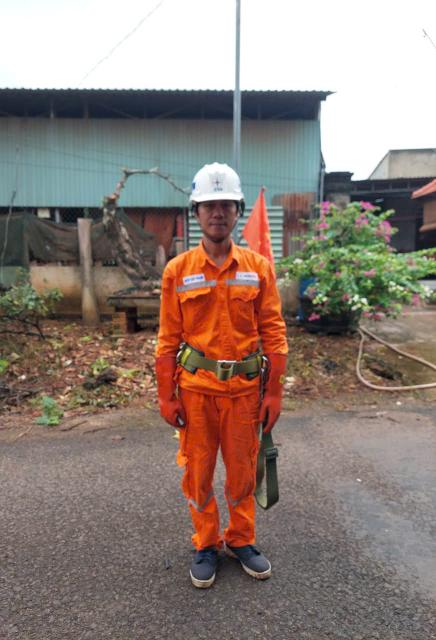gloves: (148, 349, 195, 425), (259, 358, 287, 428)
harness: (167, 337, 280, 393)
helmet: (186, 161, 256, 212)
shoes: (219, 539, 283, 588), (185, 540, 219, 590)
